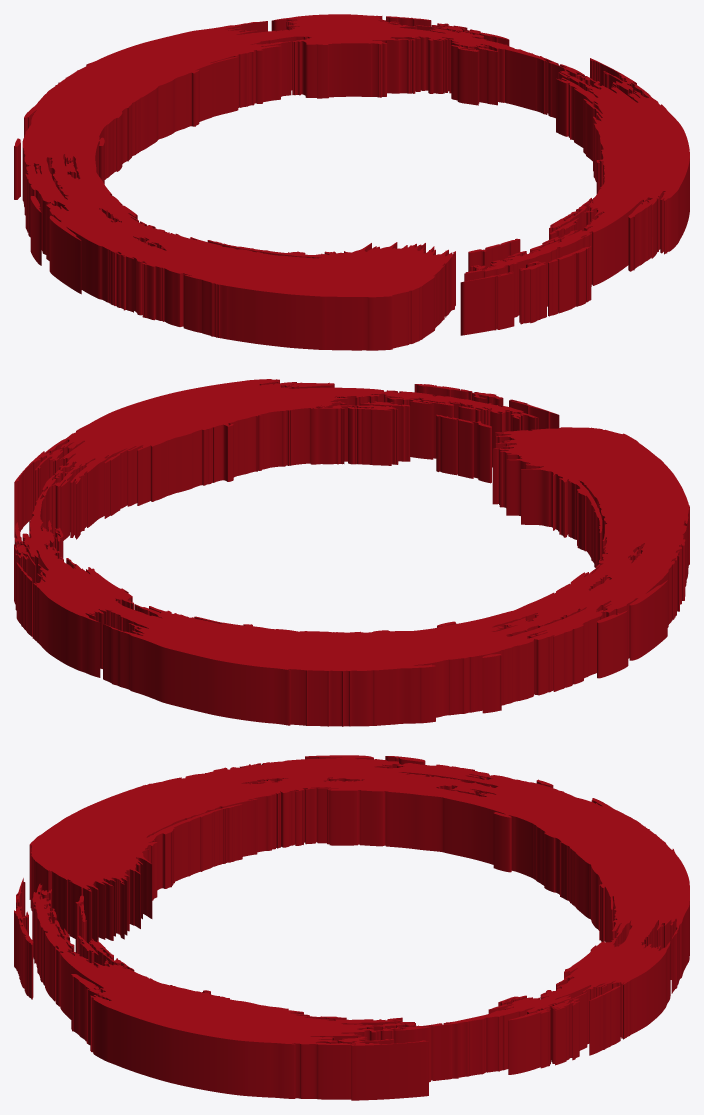
File: BackGroundRotate.fbx
The picture shows the model from 3 angles, top to bottom: view 1: azimuth 30°, elevation 25°; view 2: azimuth 150°, elevation 25°; view 3: azimuth 270°, elevation 25°; orthographic projection. The views are drawn at different scales.
Parts seen in each view (by area): view 1: Curve, Curve.007, Curve.014, Curve.012, Curve.006, Curve.013, Curve.011, Curve.008; view 2: Curve, Curve.007, Curve.009, Curve.011, Curve.008, Curve.004, Curve.002, Curve.010, Curve.014, Curve.003, Curve.012; view 3: Curve, Curve.007, Curve.005, Curve.003, Curve.002, Curve.012.
Boxes of the visible parts, box(x1,y1,x2,y2) form: Curve: box(22, 14, 584, 350); Curve.007: box(464, 58, 689, 317); Curve.014: box(460, 271, 514, 335); Curve.012: box(548, 246, 591, 316); Curve.006: box(451, 45, 479, 105); Curve.013: box(519, 261, 546, 324); Curve.011: box(468, 238, 520, 271); Curve.008: box(30, 196, 41, 265); Curve: box(22, 427, 689, 726); Curve.007: box(14, 379, 538, 540); Curve.009: box(310, 405, 398, 465); Curve.011: box(436, 414, 491, 483); Curve.008: box(597, 610, 628, 678); Curve.004: box(482, 654, 501, 713); Curve.002: box(16, 562, 32, 636); Curve.010: box(360, 401, 410, 461); Curve.014: box(509, 399, 559, 429); Curve.003: box(14, 544, 35, 610); Curve.012: box(414, 384, 472, 400); Curve: box(29, 755, 689, 1082); Curve.007: box(32, 883, 428, 1100); Curve.005: box(508, 1007, 550, 1074); Curve.003: box(551, 992, 587, 1065); Curve.002: box(589, 985, 620, 1055); Curve.012: box(18, 920, 33, 999).
Size of the model in its own units: 774 by 68.09 by 761.
